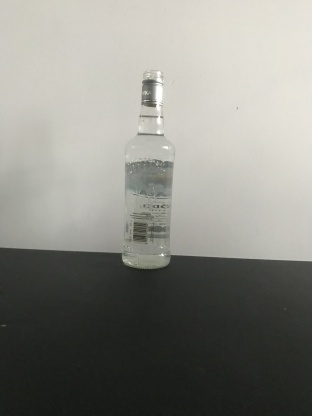nakretka: (139, 67, 165, 108)
